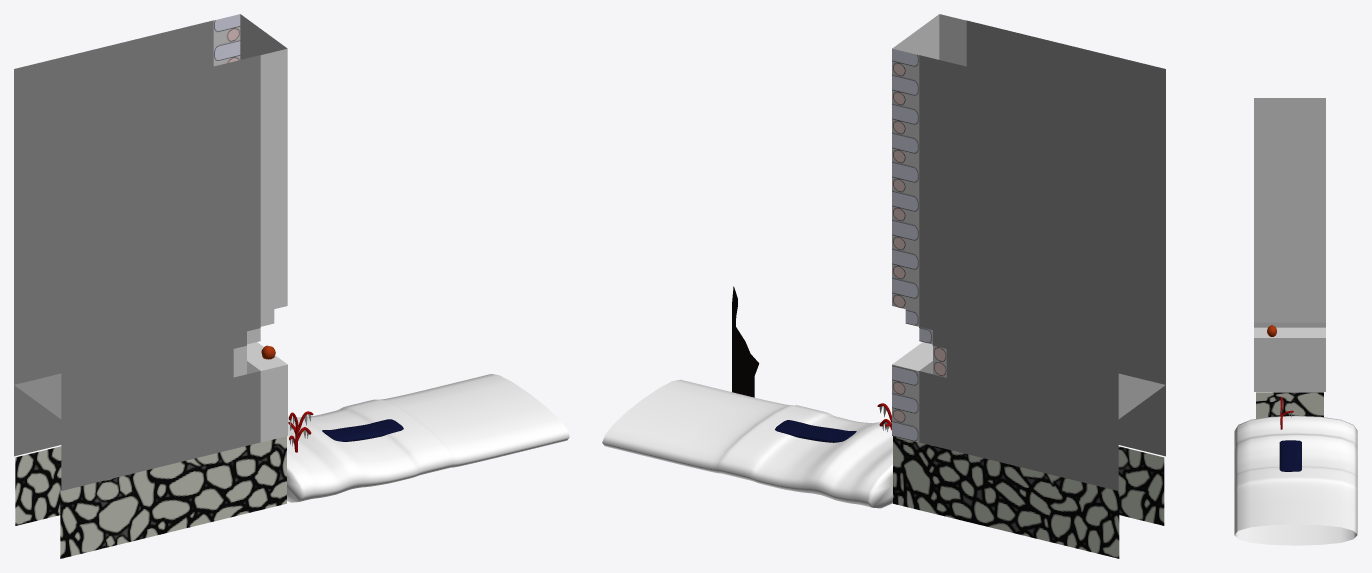
File: screen_19_00.obj
3 views of the same model, side by side, from view 1: azimuth 30°, elevation 25°; view 2: azimuth 150°, elevation 25°; view 3: azimuth 270°, elevation 25° (orthographic). The views are drawn at different scales.
Parts seen in each view (by area): view 1: Cube.030_Cube.1374, OverGround.046_Cube.1179, Cube.019_Cube.1363, Cube.021_Cube.1365, Cube.022_Cube.1366, Cube.028_Cube.1372, Cube.029_Cube.1373, Cube.020_Cube.1364, Ice.007_Cube.1435; view 2: Cube.030_Cube.1374, OverGround.046_Cube.1179, Cube.019_Cube.1363, Cube.021_Cube.1365, Cube.022_Cube.1366, Cube.028_Cube.1372, Cube.029_Cube.1373, Cube.020_Cube.1364, Background.006_Plane.014, Ice.007_Cube.1435; view 3: OverGround.046_Cube.1179, Cube.022_Cube.1366, Cube.020_Cube.1364, Cube.019_Cube.1363, Cube.024_Cube.1368, Ice.007_Cube.1435, Cube.027_Cube.1371, Cube.025_Cube.1369, Cube.026_Cube.1370, Cube.021_Cube.1365, Cube.023_Cube.1367.
Boxes of the visible parts, left/top/right/bottom form: Cube.030_Cube.1374: left=14, top=20, right=260, bottom=376; OverGround.046_Cube.1179: left=287, top=374, right=569, bottom=502; Cube.019_Cube.1363: left=15, top=436, right=286, bottom=558; Cube.021_Cube.1365: left=14, top=361, right=260, bottom=490; Cube.022_Cube.1366: left=213, top=14, right=287, bottom=312; Cube.028_Cube.1372: left=14, top=345, right=233, bottom=419; Cube.029_Cube.1373: left=14, top=329, right=246, bottom=390; Cube.020_Cube.1364: left=247, top=342, right=287, bottom=442; Ice.007_Cube.1435: left=322, top=419, right=403, bottom=441; Cube.030_Cube.1374: left=919, top=20, right=1165, bottom=376; OverGround.046_Cube.1179: left=602, top=379, right=892, bottom=508; Cube.019_Cube.1363: left=893, top=436, right=1164, bottom=558; Cube.021_Cube.1365: left=919, top=361, right=1165, bottom=490; Cube.022_Cube.1366: left=892, top=14, right=966, bottom=312; Cube.028_Cube.1372: left=946, top=345, right=1165, bottom=419; Cube.029_Cube.1373: left=932, top=330, right=1165, bottom=390; Cube.020_Cube.1364: left=892, top=342, right=932, bottom=442; Background.006_Plane.014: left=732, top=286, right=759, bottom=397; Ice.007_Cube.1435: left=775, top=420, right=856, bottom=442; OverGround.046_Cube.1179: left=1234, top=415, right=1357, bottom=545; Cube.022_Cube.1366: left=1254, top=98, right=1325, bottom=293; Cube.020_Cube.1364: left=1254, top=327, right=1325, bottom=391; Cube.019_Cube.1363: left=1256, top=392, right=1323, bottom=418; Cube.024_Cube.1368: left=1254, top=312, right=1325, bottom=322; Ice.007_Cube.1435: left=1279, top=440, right=1301, bottom=471; Cube.027_Cube.1371: left=1254, top=293, right=1325, bottom=299; Cube.025_Cube.1369: left=1254, top=305, right=1325, bottom=311; Cube.026_Cube.1370: left=1254, top=299, right=1325, bottom=304; Cube.021_Cube.1365: left=1254, top=322, right=1325, bottom=327; Cube.023_Cube.1367: left=1254, top=305, right=1325, bottom=311.
Bounding box in the file's own units: 36.27 × 34.07 × 13.66.
